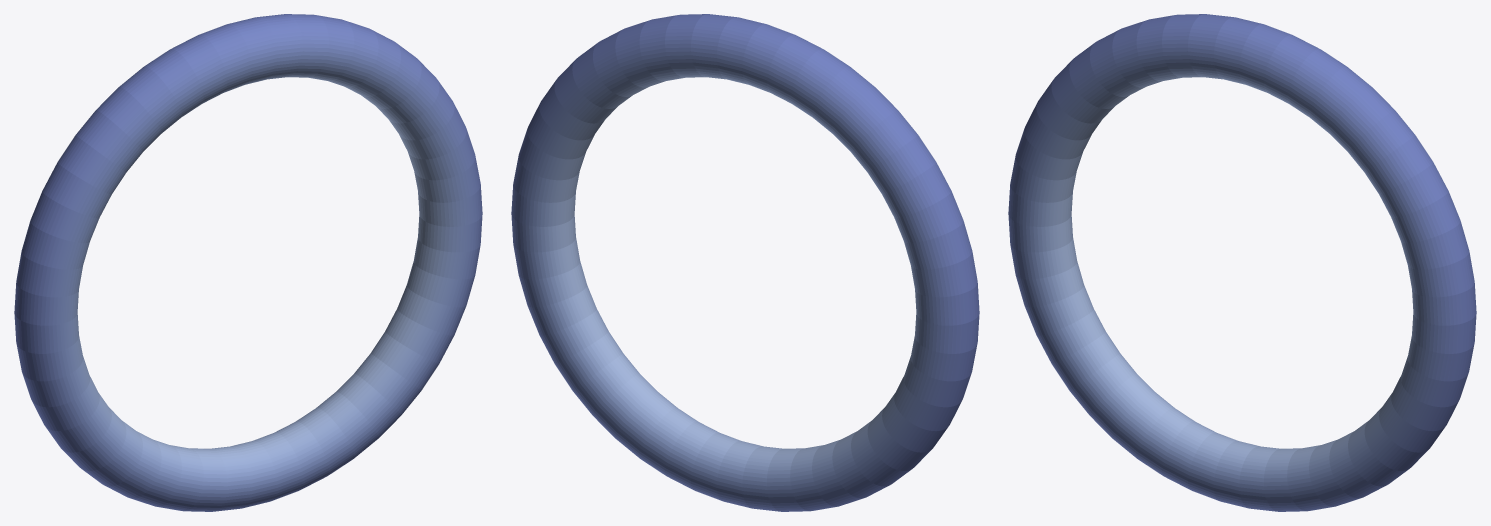
3 renders of one model, left to right at view 1: azimuth 30°, elevation 25°; view 2: azimuth 150°, elevation 25°; view 3: azimuth 330°, elevation 25°, orthographic.
Visible parts, largest first — view 1: world; view 2: world; view 3: world.
Boxes of the visible parts, left/top/right/bottom form: world: left=14, top=14, right=482, bottom=511; world: left=511, top=14, right=979, bottom=511; world: left=1008, top=14, right=1476, bottom=511.
Size of the model in its own units: 25.73 by 25.68 by 3.06.
